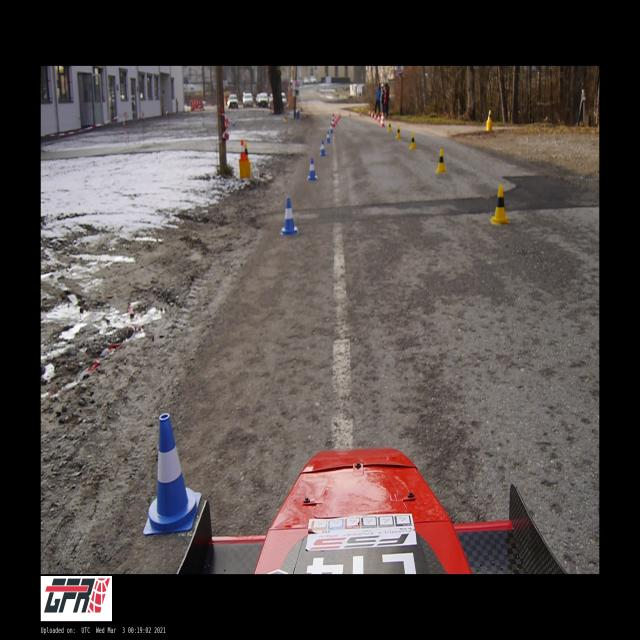blue_cone: (144, 414, 202, 534), (281, 198, 298, 234), (307, 158, 318, 180), (320, 140, 326, 156), (326, 130, 330, 142), (330, 123, 333, 133)
large_orange_cone: (331, 114, 336, 128), (381, 113, 385, 127)
orange_cone: (239, 140, 247, 160), (377, 115, 381, 123), (349, 111, 351, 117), (359, 112, 362, 116)
yellow_cone: (490, 185, 510, 223), (435, 149, 447, 173), (409, 133, 417, 149), (396, 126, 402, 138), (487, 109, 492, 121), (388, 120, 392, 130)
